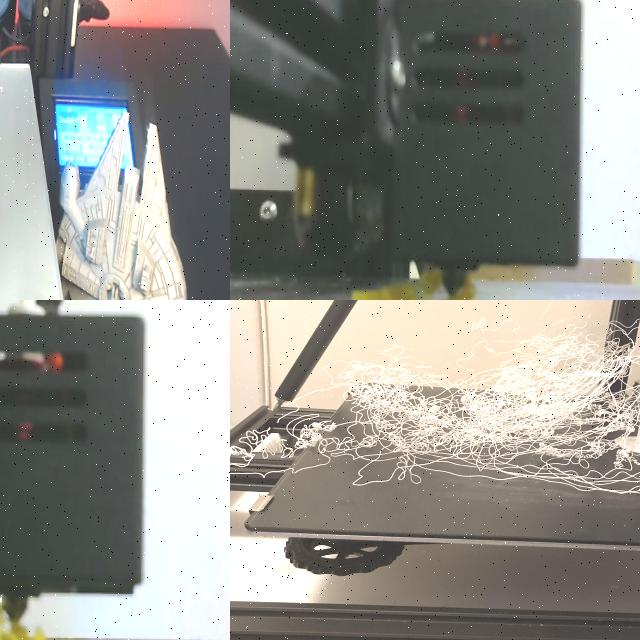spaghetti: (230, 308, 640, 526), (352, 266, 476, 300)
